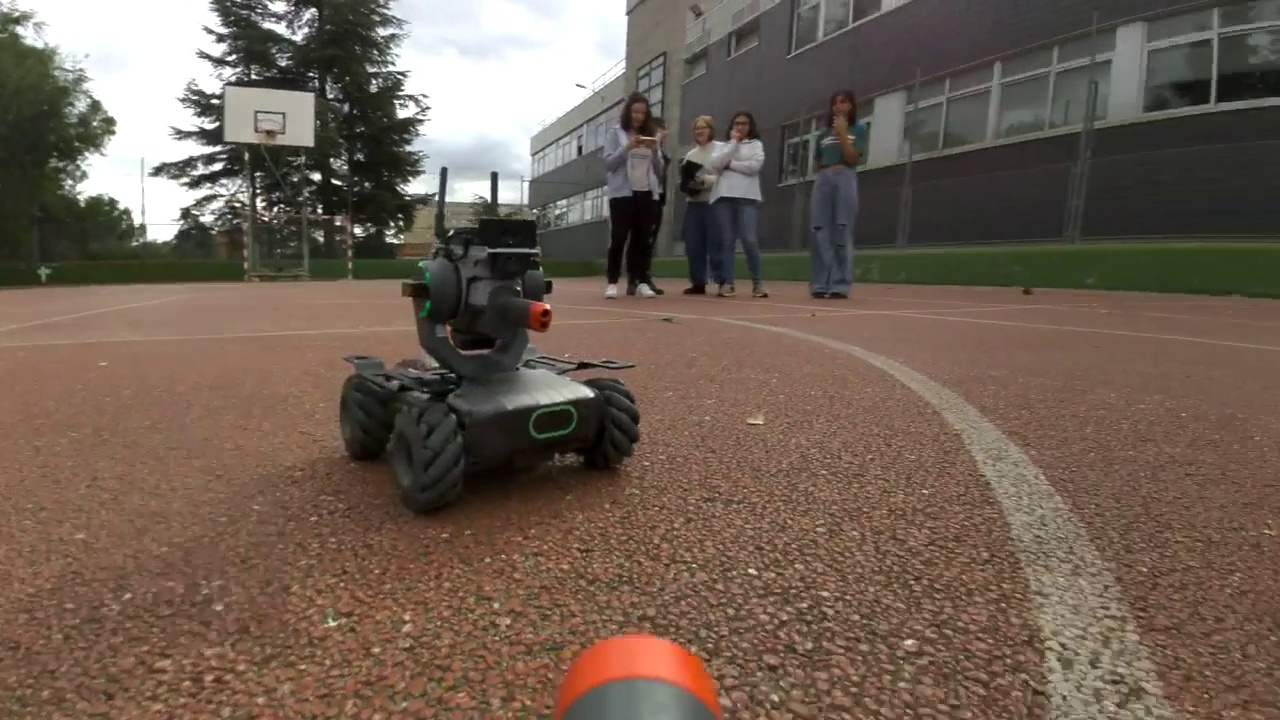robot: (341, 218, 638, 517)
